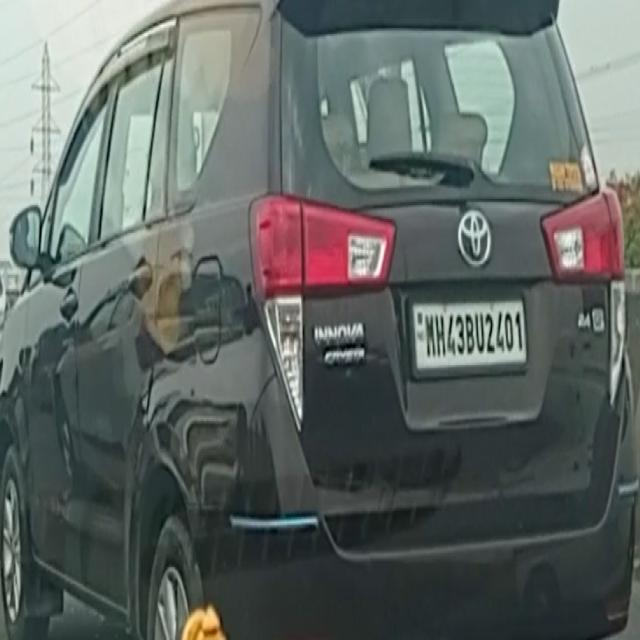license-plate: (409, 295, 528, 370)
